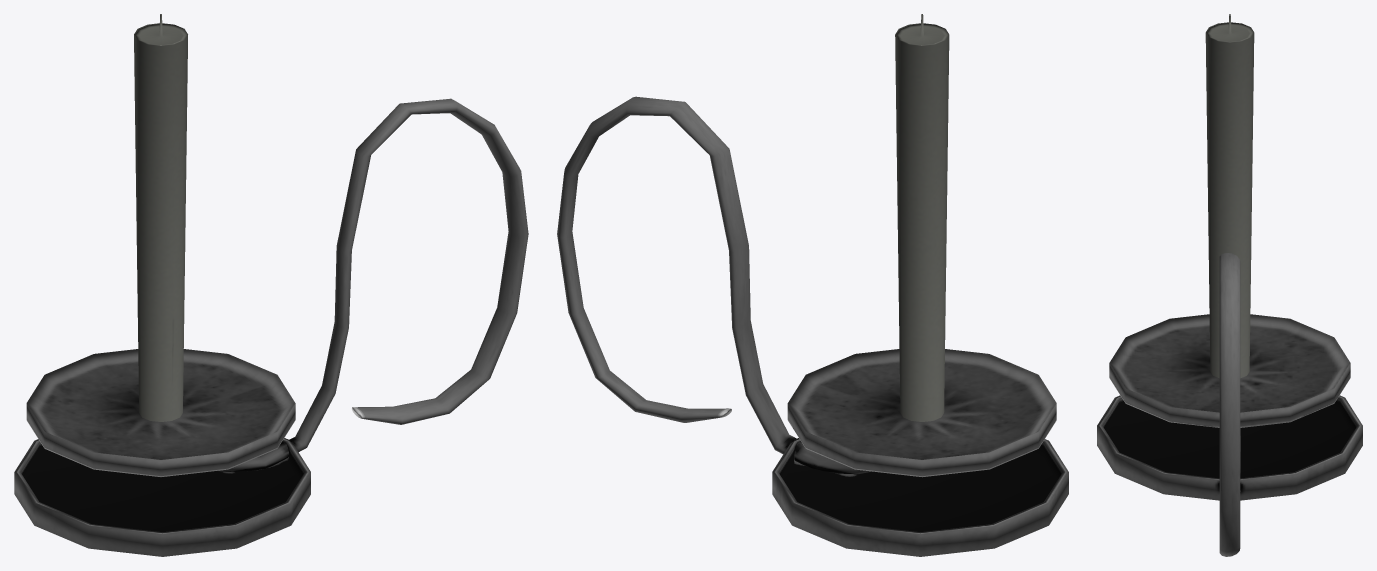
File: candle.fbx
3 renders of one model, left to right at view 1: azimuth 30°, elevation 25°; view 2: azimuth 150°, elevation 25°; view 3: azimuth 270°, elevation 25°, orthographic. The views are drawn at different scales.
Visible parts, largest first — view 1: candle; view 2: candle; view 3: candle.
Part boxes in pixels (x1,y1,x2,y2): candle: (14, 14, 528, 556); candle: (557, 14, 1068, 556); candle: (1097, 14, 1362, 556).
Bounding box in the file's own units: 27.42 × 25.65 × 14.35.
1 material, 1 textured.
